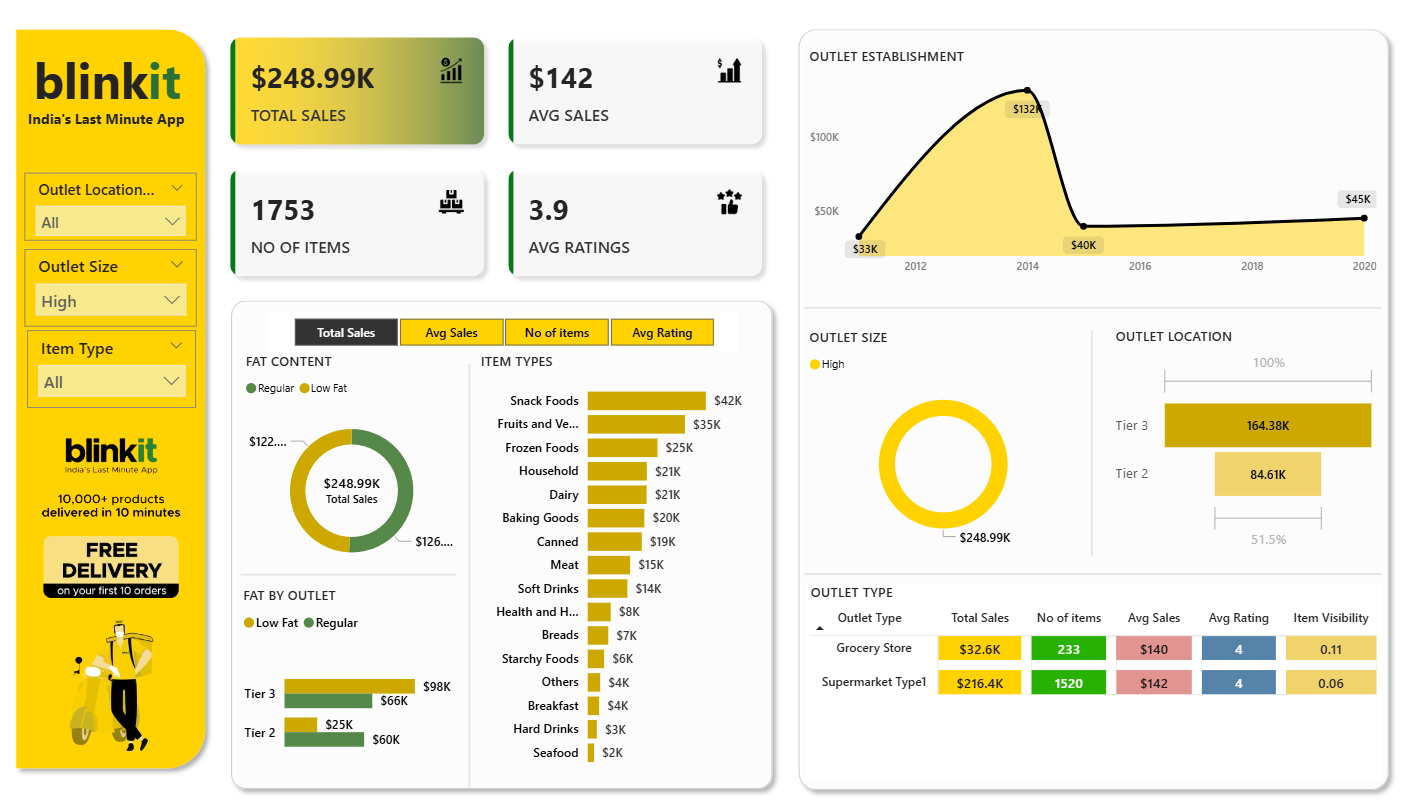

The dashboard page shown, as its layout file describes it:
{"tool":"powerbi","page":{"name":"Blinkit Overview","canvas":[1400,800],"ordinal":1},"visuals":[{"type":"shape","box":[9.4,25.5,205.1,749.3],"z":0},{"type":"textbox","box":[26.8,46.9,163.5,77.7],"z":1000},{"type":"textbox","box":[22.8,108.6,171.6,36.2],"z":2000},{"type":"cardVisual","fields":{"Data":["BlinkIT Grocery Data.Total Sales","BlinkIT Grocery Data.Avg Sales","BlinkIT Grocery Data.Number of items","BlinkIT Grocery Data.Avg Rating"]},"box":[214.5,25.5,561.7,270.8],"z":3000},{"type":"shape","box":[222.5,294.9,553.6,501.3],"z":4000},{"type":"donutChart","title":"FAT CONTENT","fields":{"Y":["BlinkIT Grocery Data.NO of items"],"Category":["BlinkIT Grocery Data.Item Fat Content"]},"box":[241.3,353.9,219.8,230.6],"z":5000},{"type":"slicer","fields":{"Values":[" Metrics. Metrics"]},"box":[268.1,313.7,465.1,40.2],"z":6000},{"type":"cardVisual","fields":{"Data":["BlinkIT Grocery Data.NO of items"]},"box":[300.3,457.1,101.9,59],"z":7000},{"type":"clusteredBarChart","title":"FAT BY OUTLET","fields":{"Y":["BlinkIT Grocery Data.NO of items"],"Category":["BlinkIT Grocery Data.Outlet Location Type"],"Series":["BlinkIT Grocery Data.Item Fat Content"]},"box":[239.1,585,220,200.9],"z":8000},{"type":"shape","box":[241.3,565.7,213.1,18.8],"z":9000},{"type":"shape","box":[461.1,366,12.1,419.6],"z":10000},{"type":"barChart","title":"ITEM TYPES","fields":{"Y":["BlinkIT Grocery Data.NO of items"],"Category":["BlinkIT Grocery Data.Item Type"]},"box":[473.2,353.9,284.2,420.9],"z":11000},{"type":"shape","box":[784.2,25.5,601.9,770.8],"z":12000},{"type":"lineChart","title":"OUTLET ESTABLISHMENT ","fields":{"Category":["BlinkIT Grocery Data.Outlet Establishment Year"],"Y":["BlinkIT Grocery Data.Total Sales"]},"box":[798.9,52.3,571,234.6],"z":13000},{"type":"shape","box":[798.7,301.6,571,17.4],"z":14000},{"type":"donutChart","title":"OUTLET SIZE ","fields":{"Y":["BlinkIT Grocery Data.Total Sales"],"Category":["BlinkIT Grocery Data.Outlet Size"]},"box":[798.7,330,275,225],"z":15000},{"type":"shape","box":[1077.5,332.7,12.1,223.9],"z":16000},{"type":"funnel","title":"OUTLET LOCATION","fields":{"Y":["Sum(BlinkIT Grocery Data.Sales)"],"Category":["BlinkIT Grocery Data.Outlet Location Type"]},"box":[1101.6,328.7,268.1,226.5],"z":17000},{"type":"shape","box":[798.9,565.7,571,17.4],"z":18000},{"type":"pivotTable","title":"OUTLET TYPE","fields":{"Rows":["BlinkIT Grocery Data.Outlet Type"],"Values":["BlinkIT Grocery Data.Total Sales","BlinkIT Grocery Data.NO of items","BlinkIT Grocery Data.Avg Sales","BlinkIT Grocery Data.Avg Rating","Avg(BlinkIT Grocery Data.Item Visibility)"]},"box":[800.3,583.1,569.7,197.1],"z":19000},{"type":"slicer","fields":{"Values":["BlinkIT Grocery Data.Outlet Location Type"]},"box":[26.8,176.9,170.2,67],"z":20000},{"type":"slicer","fields":{"Values":["BlinkIT Grocery Data.Outlet Size"]},"box":[27.2,252.3,170.7,76.7],"z":21000},{"type":"slicer","fields":{"Values":["BlinkIT Grocery Data.Item Type"]},"box":[29.5,332.4,167.6,76.4],"z":22000},{"type":"image","box":[29.7,420.5,167,335.2],"z":23000}]}

Visuals, with their boxes in screenshot pixels (x1, y1, x2, y2), scaled from the page's 1400x800 canvas onto the 1410x801 screenshot:
shape: left=9, top=26, right=216, bottom=776
textbox: left=27, top=47, right=192, bottom=125
textbox: left=23, top=109, right=196, bottom=145
cardVisual - BlinkIT Grocery Data.Total Sales x BlinkIT Grocery Data.Avg Sales: left=216, top=26, right=782, bottom=297
shape: left=224, top=295, right=782, bottom=797
"FAT CONTENT" donutChart: left=243, top=354, right=464, bottom=585
slicer -  Metrics. Metrics: left=270, top=314, right=738, bottom=354
cardVisual - BlinkIT Grocery Data.NO of items: left=302, top=458, right=405, bottom=517
"FAT BY OUTLET" clusteredBarChart: left=241, top=586, right=462, bottom=787
shape: left=243, top=566, right=458, bottom=585
shape: left=464, top=366, right=477, bottom=787
"ITEM TYPES" barChart: left=477, top=354, right=763, bottom=776
shape: left=790, top=26, right=1396, bottom=797
"OUTLET ESTABLISHMENT " lineChart: left=805, top=52, right=1380, bottom=287
shape: left=804, top=302, right=1379, bottom=319
"OUTLET SIZE " donutChart: left=804, top=330, right=1081, bottom=556
shape: left=1085, top=333, right=1097, bottom=557
"OUTLET LOCATION" funnel: left=1109, top=329, right=1379, bottom=556
shape: left=805, top=566, right=1380, bottom=584
"OUTLET TYPE" pivotTable: left=806, top=584, right=1380, bottom=781
slicer - BlinkIT Grocery Data.Outlet Location Type: left=27, top=177, right=198, bottom=244
slicer - BlinkIT Grocery Data.Outlet Size: left=27, top=253, right=199, bottom=329
slicer - BlinkIT Grocery Data.Item Type: left=30, top=333, right=199, bottom=409
image: left=30, top=421, right=198, bottom=757
